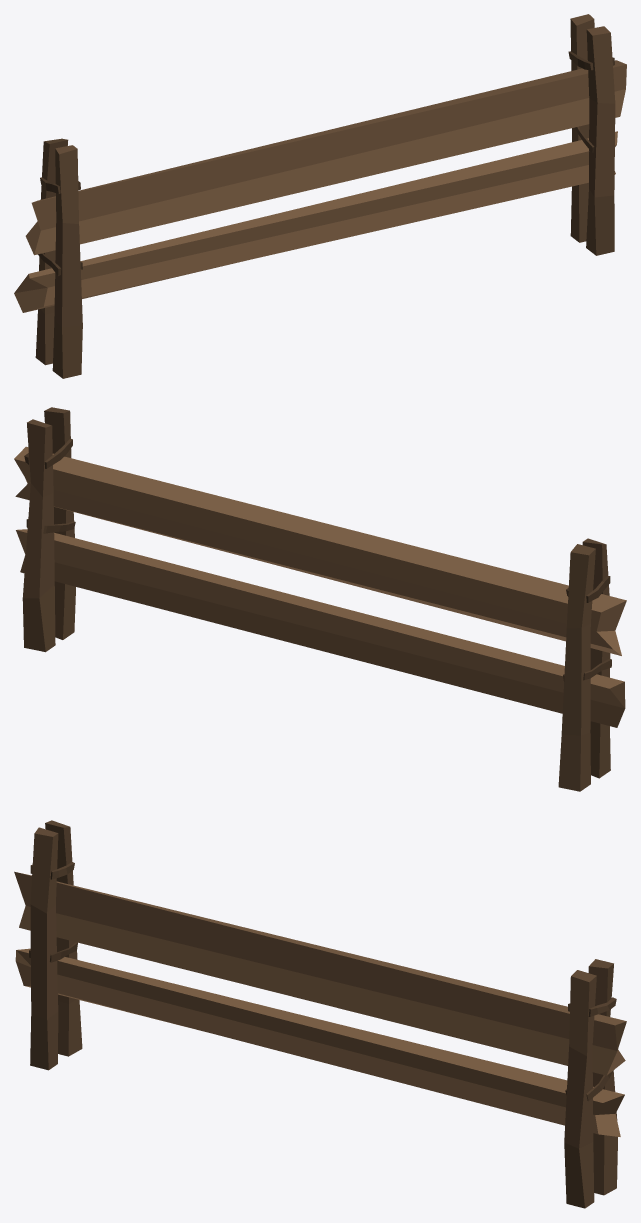
The model's file is O_Fence_1.fbx.
3 renders of one model, top to bottom at view 1: azimuth 30°, elevation 25°; view 2: azimuth 150°, elevation 25°; view 3: azimuth 330°, elevation 25°, orthographic. The views are drawn at different scales.
Visible parts, largest first — view 1: O_Fence; view 2: O_Fence; view 3: O_Fence.
Part boxes in pixels (x1=…): O_Fence: x1=14, y1=14, x2=626, y2=378; O_Fence: x1=14, y1=407, x2=626, y2=791; O_Fence: x1=14, y1=820, x2=626, y2=1208.
Bounding box in the file's own units: 0.0762 × 0.0274 × 0.00875.
